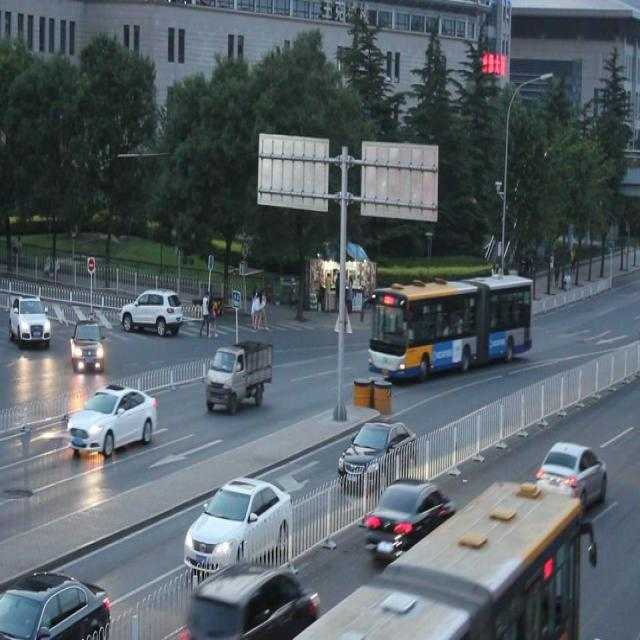bus: (206, 343, 271, 408)
car: (182, 476, 293, 572), (190, 564, 317, 640), (1, 565, 110, 640), (364, 478, 452, 558), (66, 382, 158, 455), (338, 418, 417, 485), (534, 438, 604, 504), (124, 288, 180, 334), (10, 295, 51, 343), (71, 320, 104, 370)
van: (293, 473, 577, 640), (370, 277, 531, 373)
